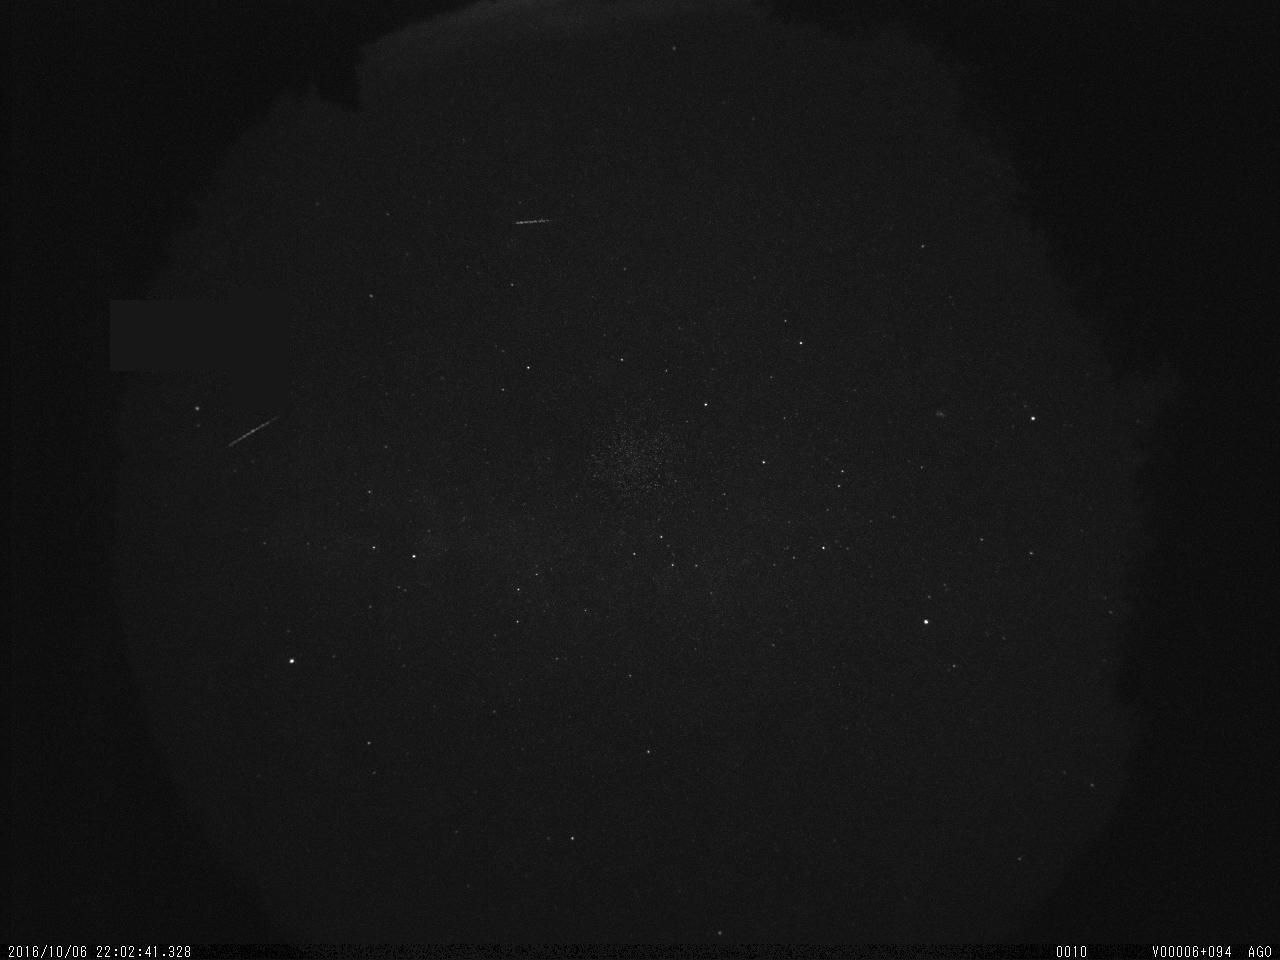Meteor: (220, 409, 290, 461), (510, 215, 558, 231)
